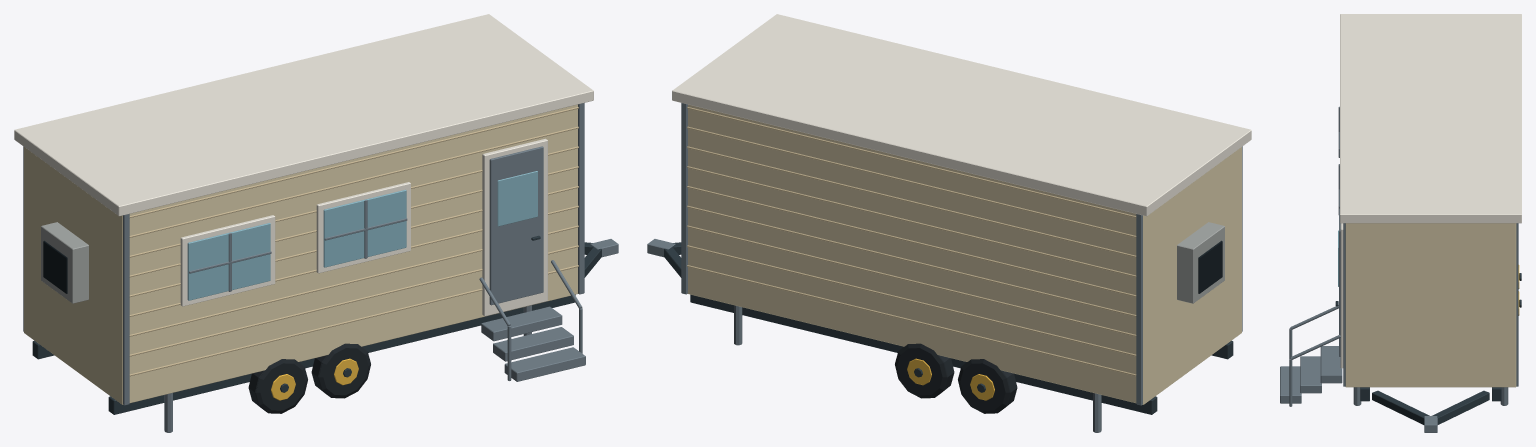
Rendered from b07_jobsite_office_trailer.glb.
3 views of the same model, side by side, from view 1: azimuth 30°, elevation 25°; view 2: azimuth 150°, elevation 25°; view 3: azimuth 270°, elevation 25° (orthographic). The views are drawn at different scales.
Visible parts, largest first — view 1: b07_jobsite_office_trailer; view 2: b07_jobsite_office_trailer; view 3: b07_jobsite_office_trailer.
Part boxes in pixels (x1,y1,x2,y2): b07_jobsite_office_trailer: (14, 14, 618, 432); b07_jobsite_office_trailer: (647, 14, 1251, 432); b07_jobsite_office_trailer: (1280, 14, 1521, 432).
Bounding box in the file's own units: 8.01 × 3.42 × 3.45.
